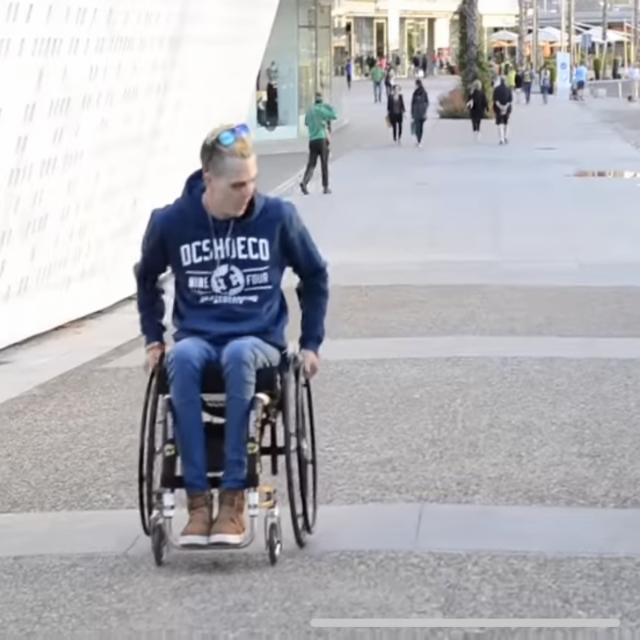wheelchairs: (137, 276, 319, 567)
